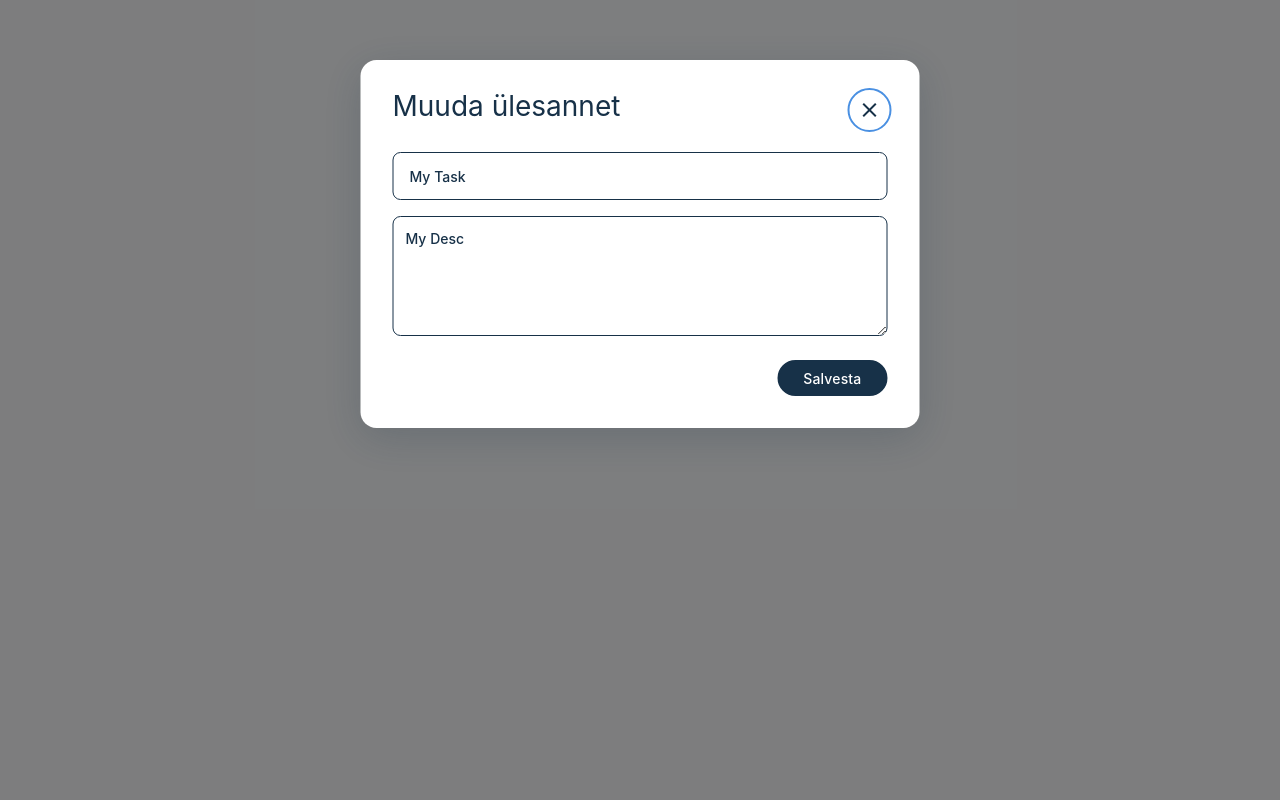
Test case: TaskEditModal mutation kills › renders error role=alert with error text
Step 1. Click the button "Salvesta" → (832, 378), box [777,360,888,396]
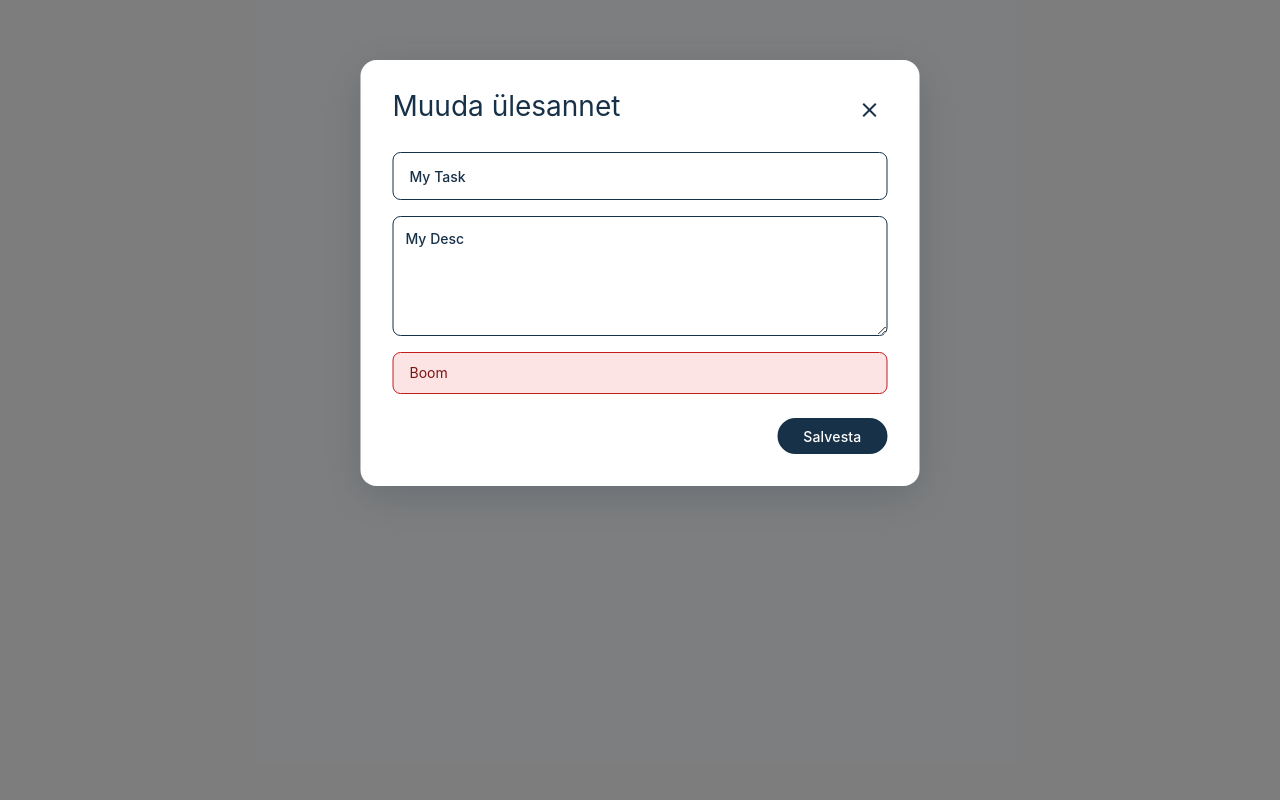
Check: the message "Boom" is shown, box [392,352,888,394]
Check: the message reads "Boom", box [410,364,448,381]
